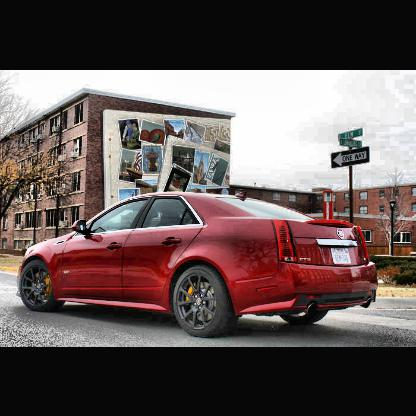Cadillac CTS-V Sedan 2012: (18, 191, 379, 337)
